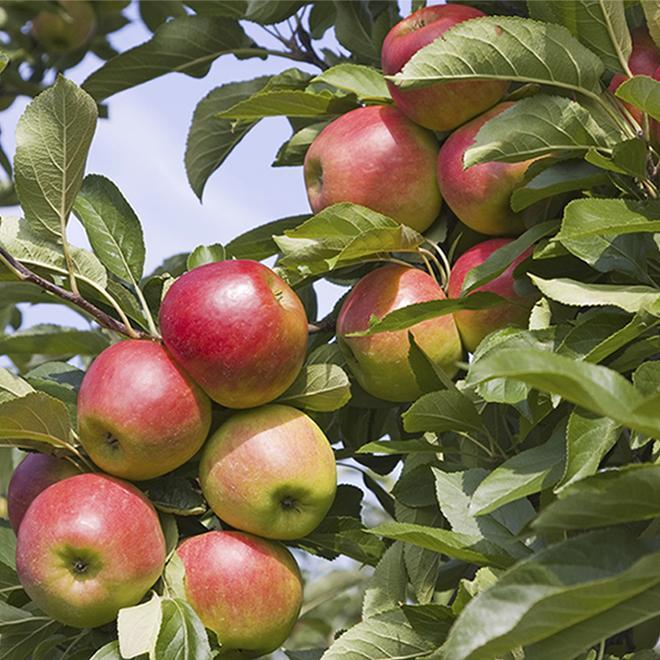apple: (12, 467, 165, 630), (157, 256, 308, 411), (72, 337, 209, 482), (329, 264, 468, 401), (200, 405, 337, 542), (304, 100, 441, 231), (166, 528, 302, 652), (381, 4, 512, 131), (438, 100, 556, 233), (446, 238, 544, 352)
